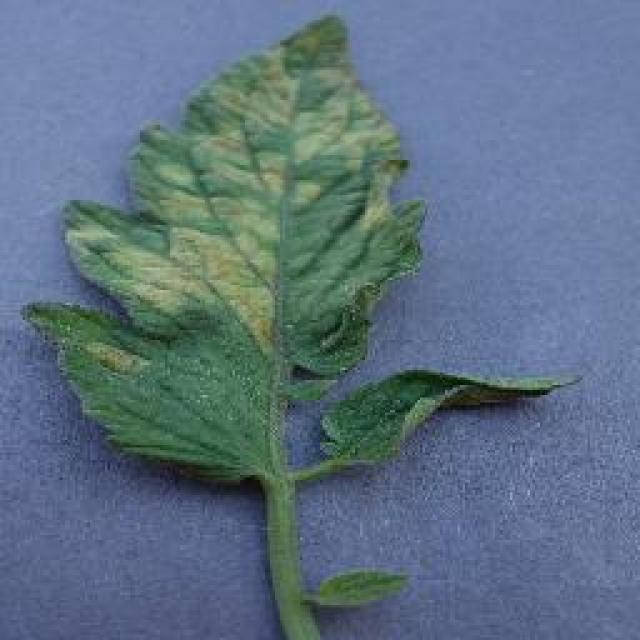green waste: (25, 9, 637, 591)
